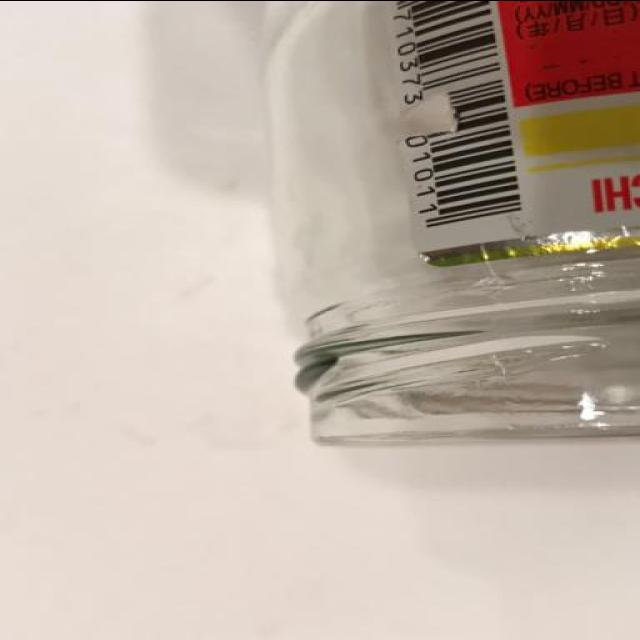Glass Bottle: (260, 1, 635, 450)
